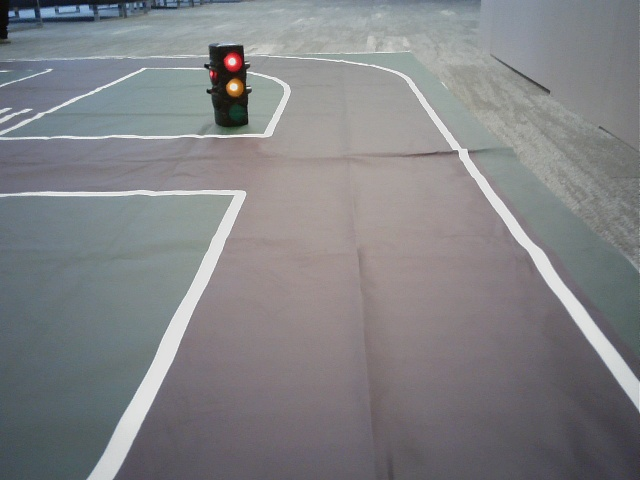red: (219, 45, 248, 124)
